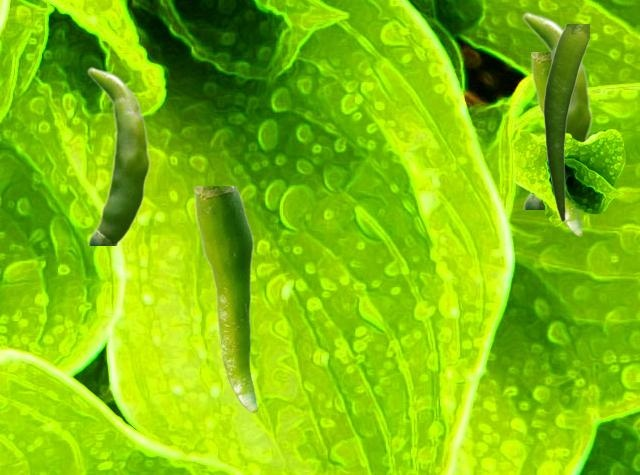green_chili: (194, 186, 256, 412), (521, 11, 592, 208), (86, 66, 150, 244), (531, 52, 581, 235), (543, 24, 588, 221)
